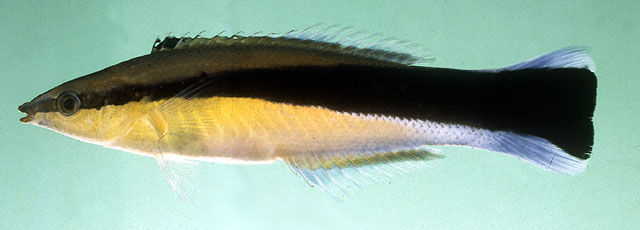fish: (17, 22, 599, 202)
